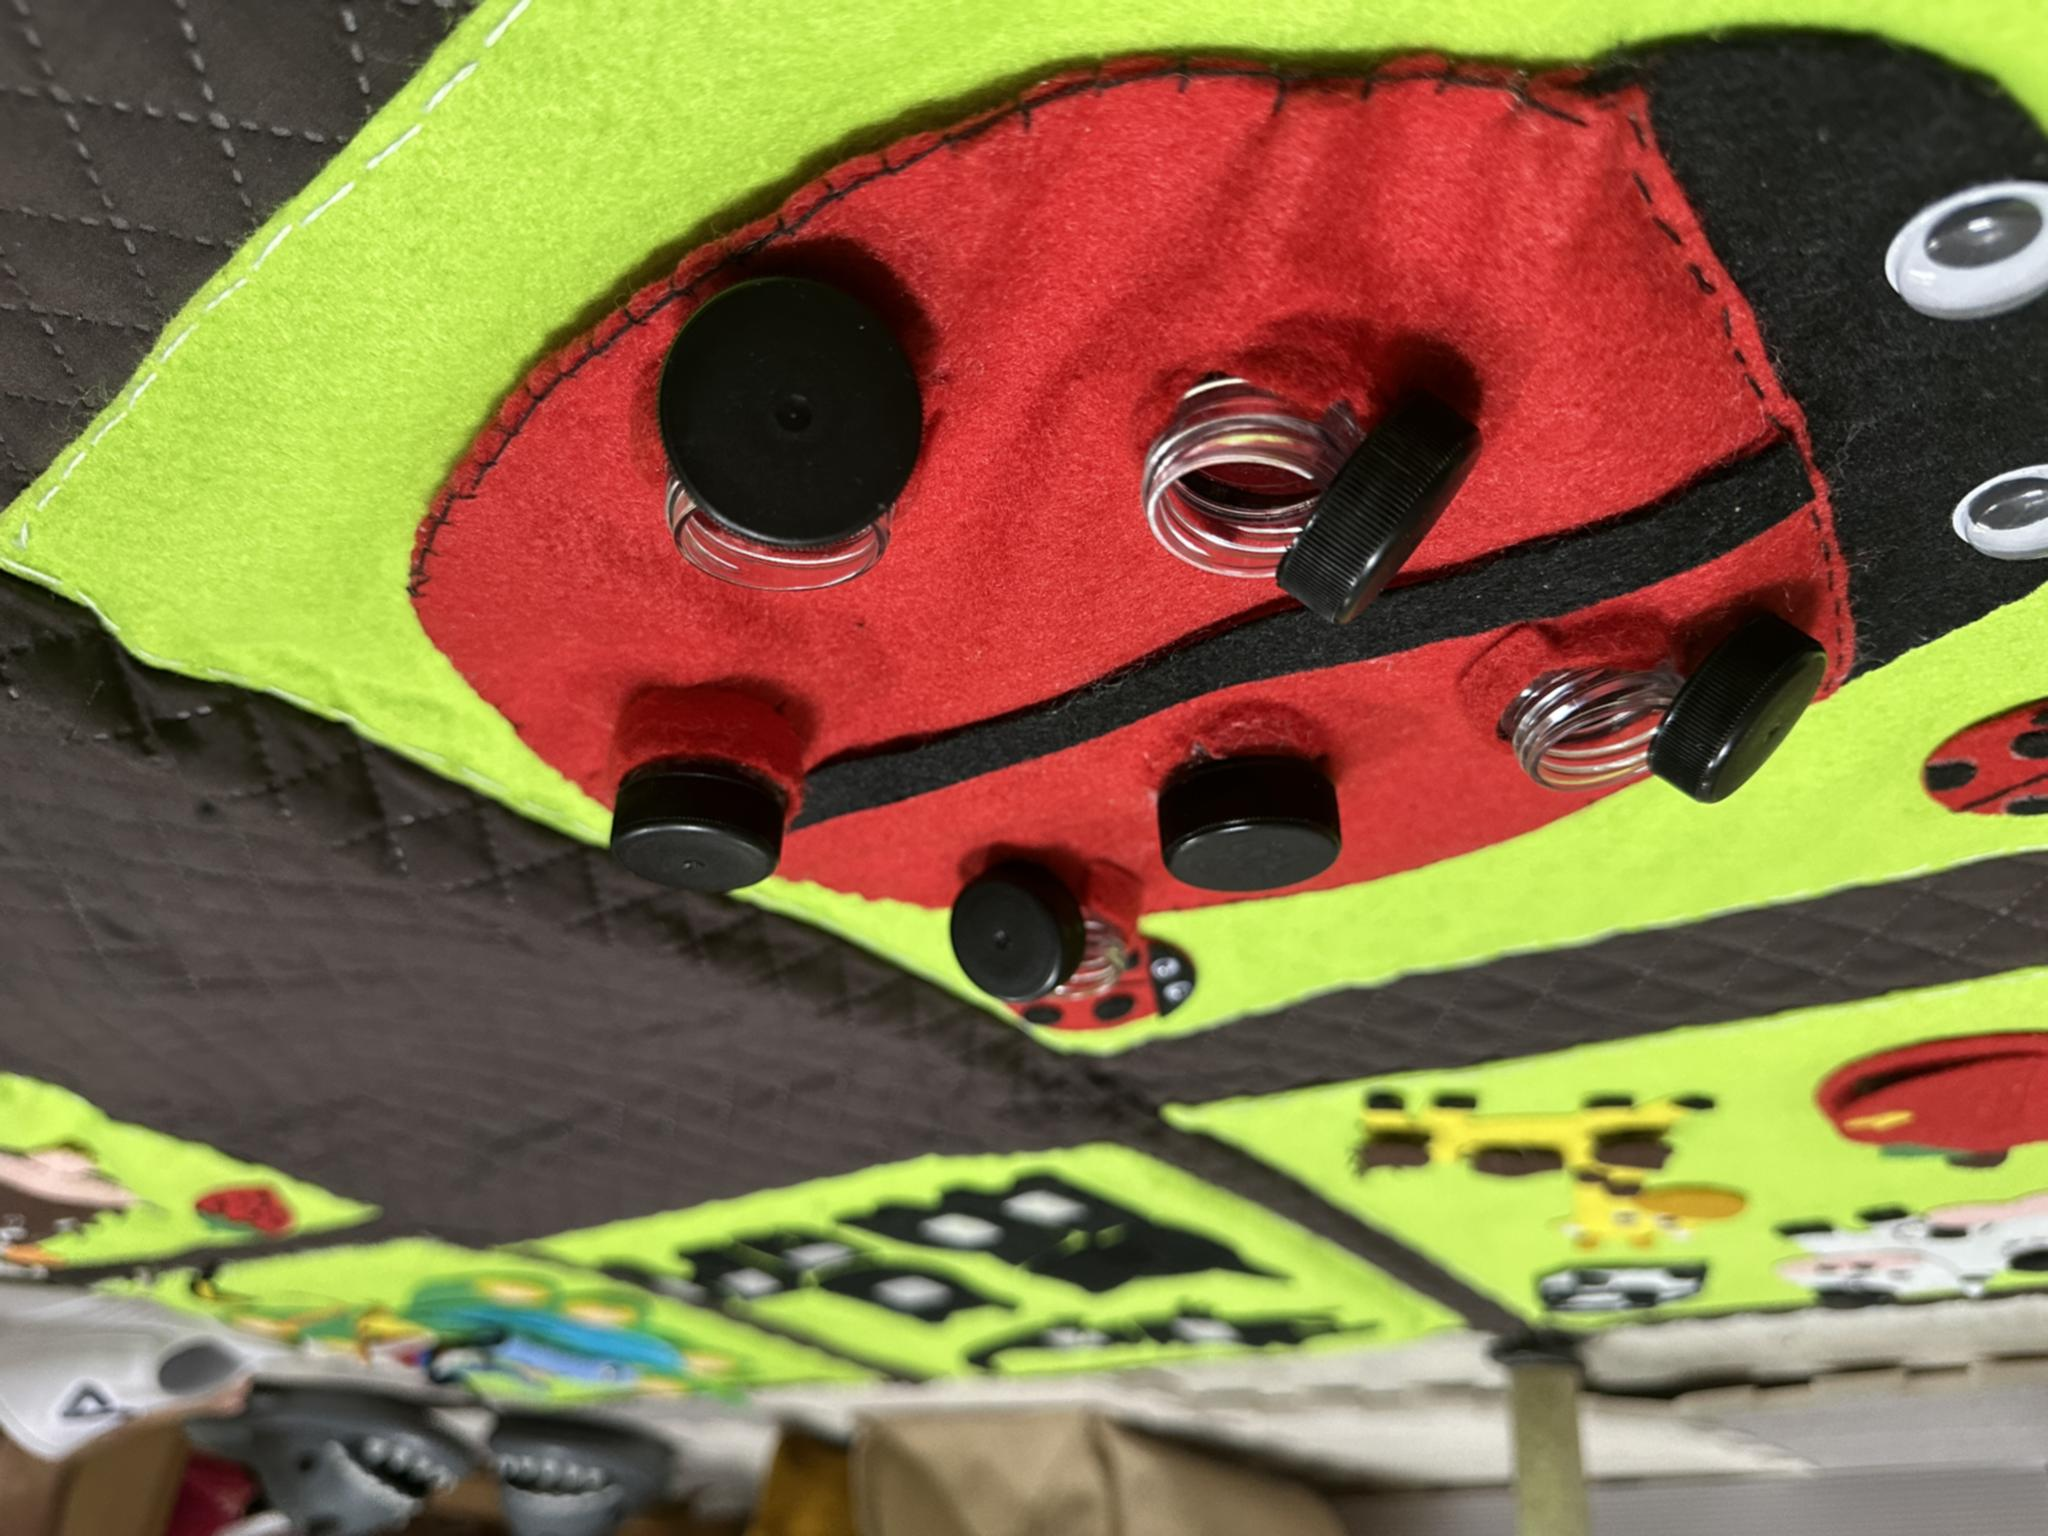cap_ng: (1114, 332, 1492, 626), (640, 265, 922, 608), (1448, 613, 1832, 816), (921, 842, 1138, 1016)
cap_ok: (589, 674, 821, 905), (1135, 713, 1355, 907)
